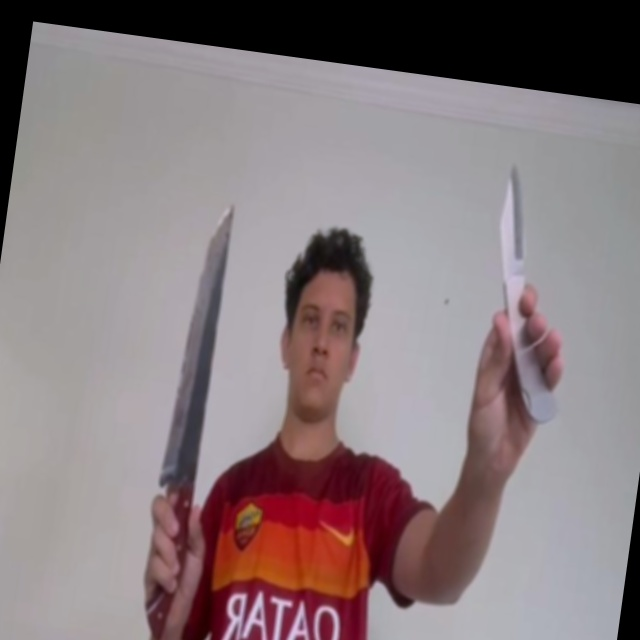Sharp-Object: (157, 197, 238, 495), (493, 156, 537, 274)
